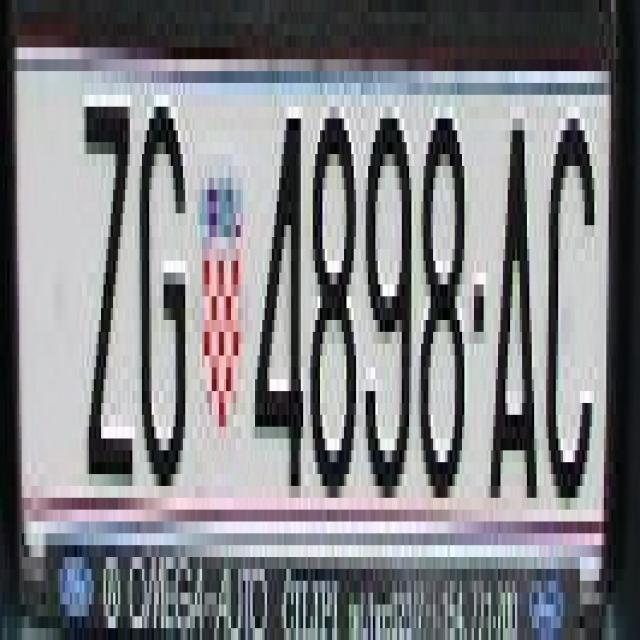4: (250, 95, 306, 498)
8: (308, 95, 358, 486), (416, 118, 464, 510)
9: (358, 106, 409, 486)
A: (486, 106, 542, 486)
C: (542, 118, 594, 510)
G: (140, 95, 190, 486)
Z: (79, 95, 135, 486)
